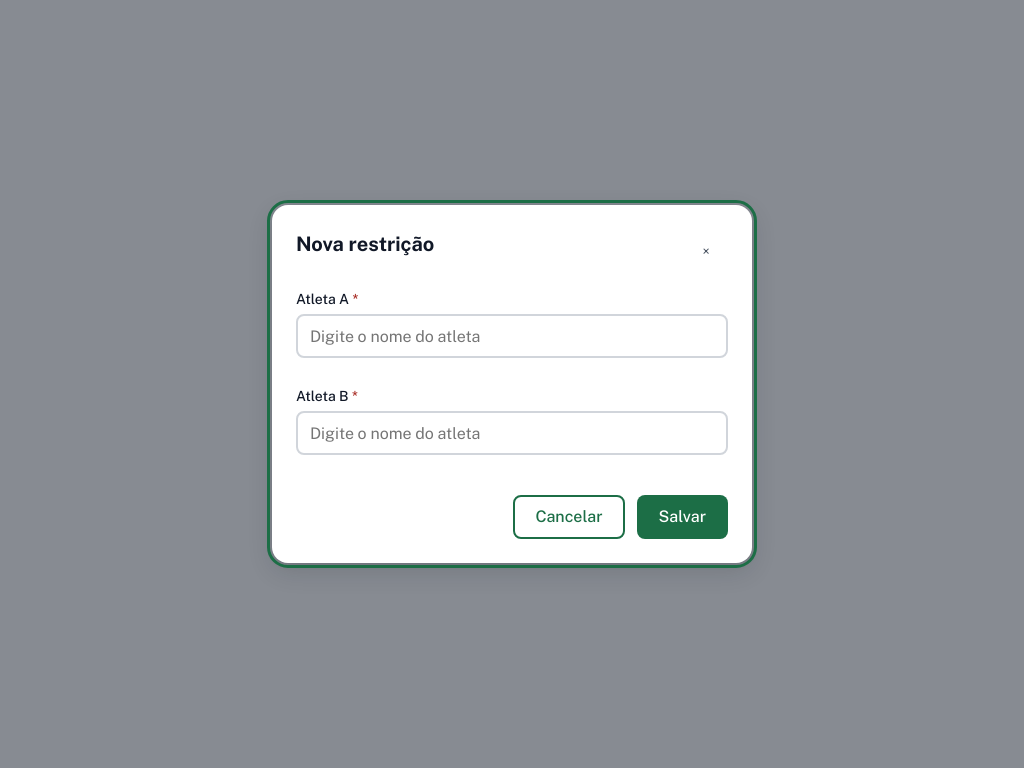
RestricaoFormModal (T10, FE-10) › valida localmente: bloqueia envio com os dois campos vazios
The width and height of the screenshot is (1024, 768).
Click the button "Salvar".
click(682, 517)  # box [637,495,728,539]
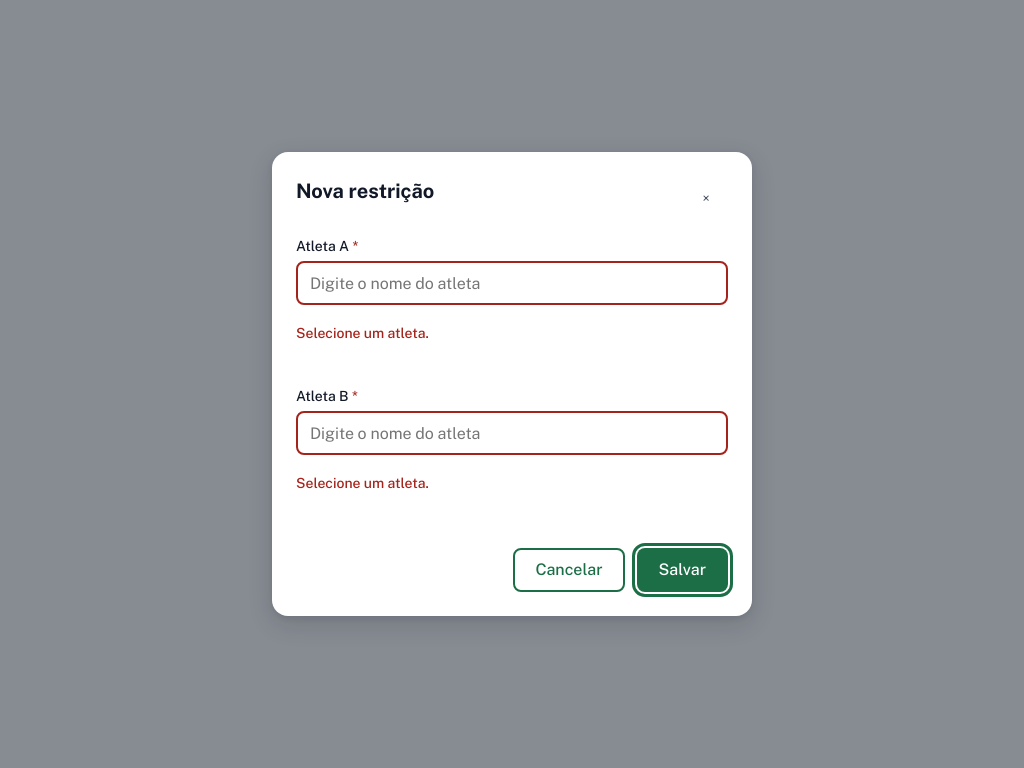
Now the text "Selecione um atleta." is shown 2 times, box [296,325,429,341]; [296,475,429,491]
